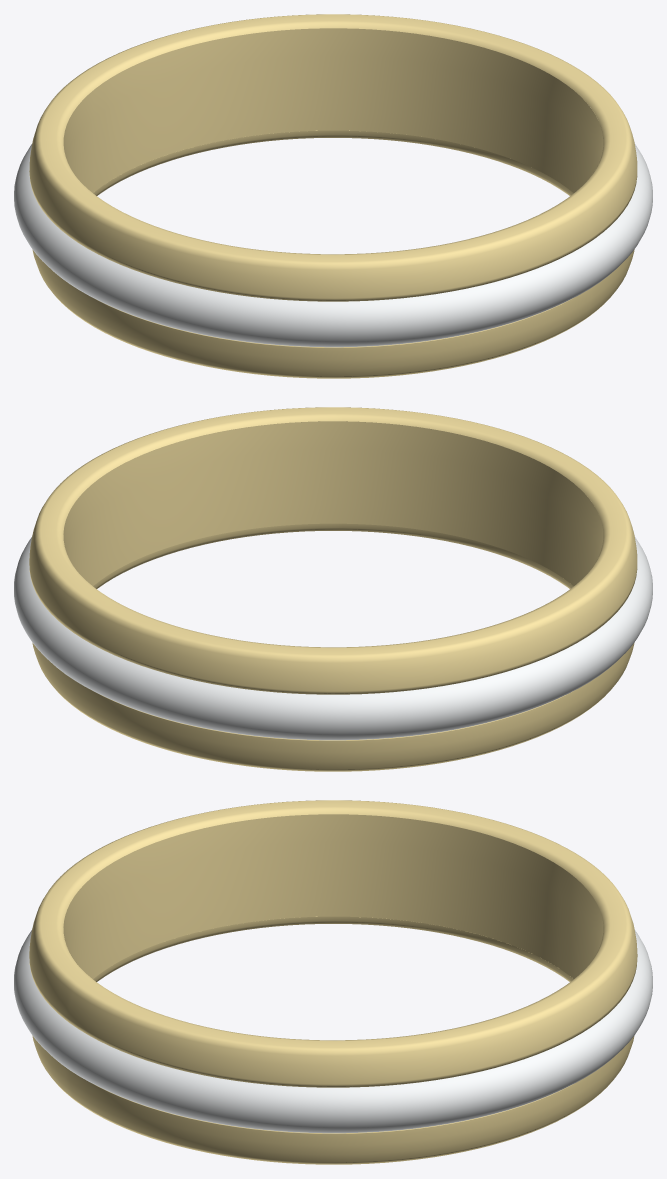
3 renders of one model, top to bottom at view 1: azimuth 30°, elevation 25°; view 2: azimuth 150°, elevation 25°; view 3: azimuth 270°, elevation 25°, orthographic.
Visible parts, largest first — view 1: Base_Metal, Engraving_Metal, Finishing_Metal; view 2: Base_Metal, Engraving_Metal, Finishing_Metal; view 3: Base_Metal, Engraving_Metal, Finishing_Metal.
Part boxes in pixels (x1,y1,x2,y2): Base_Metal: (29,14,637,378); Engraving_Metal: (63,28,603,192); Finishing_Metal: (14,143,652,347); Base_Metal: (29,407,637,771); Engraving_Metal: (63,421,603,585); Finishing_Metal: (14,536,652,740); Base_Metal: (29,800,637,1164); Engraving_Metal: (63,814,603,978); Finishing_Metal: (14,930,652,1133).
Bounding box in the file's own units: 2.14 × 0.4299 × 2.14.
